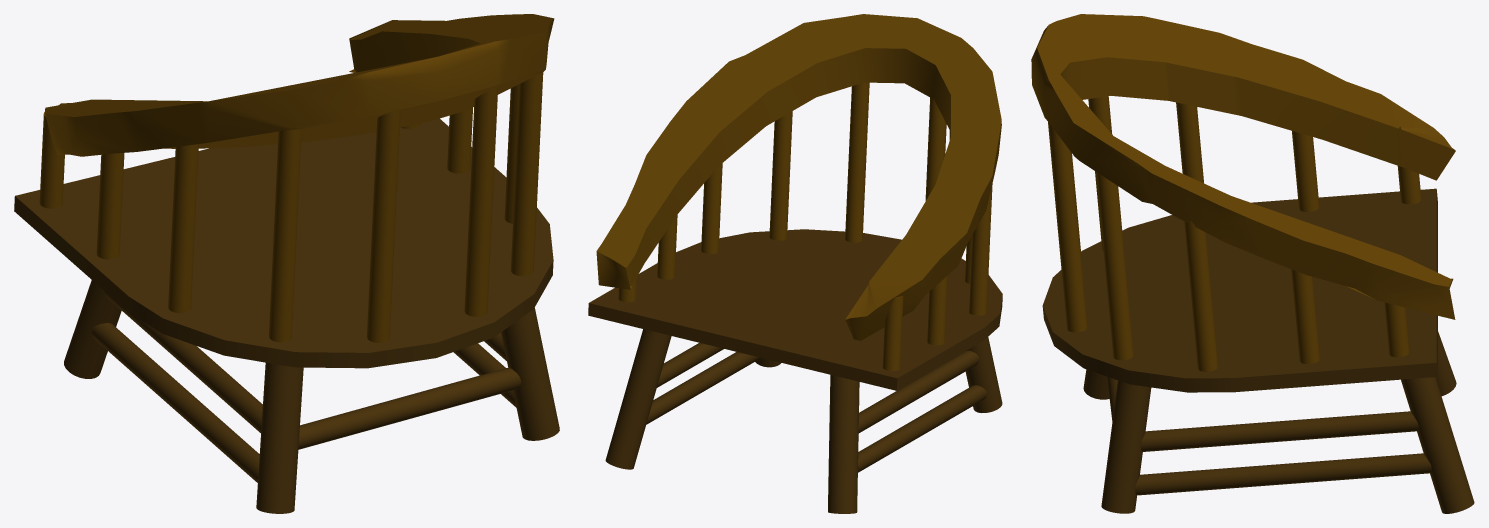
Rendered from Chair.fbx.
3 renders of one model, left to right at view 1: azimuth 30°, elevation 25°; view 2: azimuth 150°, elevation 25°; view 3: azimuth 270°, elevation 25°, orthographic. The views are drawn at different scales.
Parts seen in each view (by area): view 1: Chair; view 2: Chair; view 3: Chair.
Part boxes in pixels (x1,y1,x2,y2): Chair: (14, 14, 559, 513); Chair: (588, 14, 1002, 513); Chair: (1031, 14, 1474, 513).
Size of the model in its own units: 10.28 by 10.62 by 10.65.
